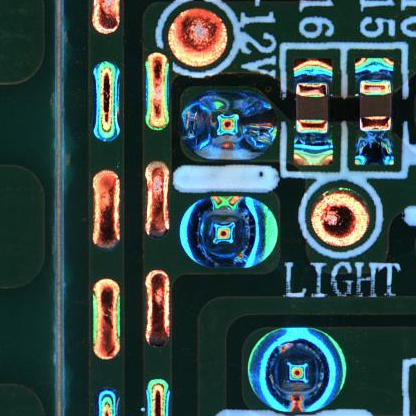spot: (244, 322, 354, 415), (174, 194, 282, 269), (181, 85, 279, 161), (160, 4, 235, 69), (307, 182, 374, 253)
